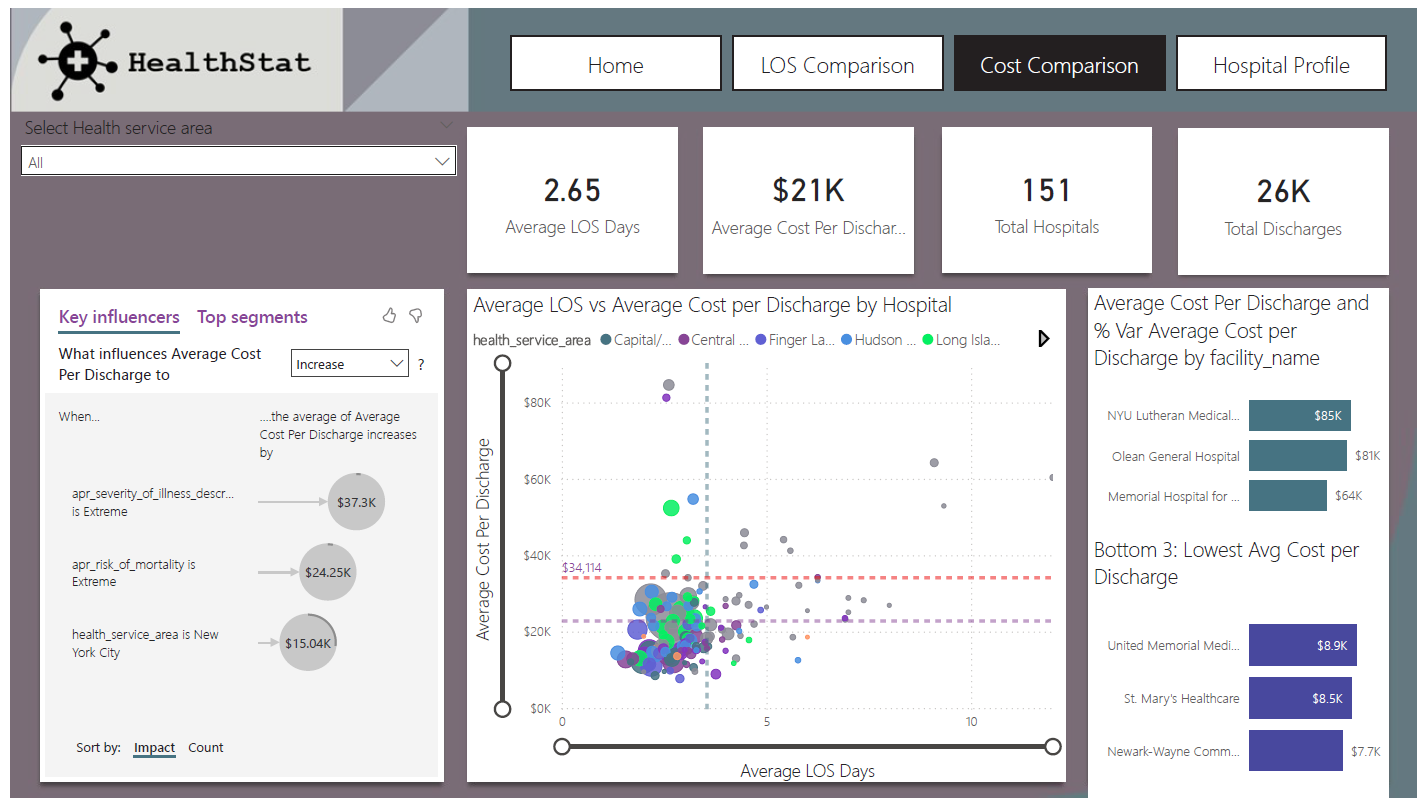

What the dashboard file says about the page in this screenshot:
{"tool":"powerbi","page":{"name":"Cost Comparison","canvas":[1280,720],"ordinal":2},"visuals":[{"type":"scatterChart","title":"Average LOS vs Average Cost per Discharge by Hospital","fields":{"X":["_Measures.Average LOS Days"],"Y":["_Measures.Average Cost Per Discharge"],"Category":["hospital_inpatient_discharges_totalhipreplacement.facility_name"],"Size":["_Measures.Total Discharges"],"Series":["hospital_inpatient_discharges_totalhipreplacement.health_service_area"]},"box":[416.4,255.7,543.6,448.5],"z":0},{"type":"slicer","fields":{"Values":["hospital_inpatient_discharges_totalhipreplacement.health_service_area"]},"box":[0,92.4,416.4,163.3],"z":1000},{"type":"keyDriversVisual","fields":{"ExplainBy":["hospital_inpatient_discharges_totalhipreplacement.apr_risk_of_mortality","hospital_inpatient_discharges_totalhipreplacement.apr_severity_of_illness_description","hospital_inpatient_discharges_totalhipreplacement.ccs_diagnosis_description","hospital_inpatient_discharges_totalhipreplacement.patient_disposition","hospital_inpatient_discharges_totalhipreplacement.gender","hospital_inpatient_discharges_totalhipreplacement.Age Bins","surgical_program_volume_summary.Surgical Program Size","hospital_inpatient_discharges_totalhipreplacement.health_service_area"],"Target":["_Measures.Average Cost Per Discharge"]},"box":[26.8,255.7,366.9,448.5],"z":2000},{"type":"clusteredBarChart","fields":{"Y":["_Measures.Average Cost Per Discharge"],"Category":["hospital_inpatient_discharges_totalhipreplacement.facility_name"]},"box":[981.1,255,272.9,224.2],"z":3000},{"type":"clusteredBarChart","title":"Bottom 3: Lowest Avg Cost per Discharge","fields":{"Y":["_Measures.Average Cost Per Discharge"],"Category":["hospital_inpatient_discharges_totalhipreplacement.facility_name"]},"box":[981.1,479.2,272.9,240.4],"z":4000},{"type":"card","fields":{"Values":["_Measures.Average Cost Per Discharge"]},"box":[630.6,108.5,191.5,133],"z":5000},{"type":"card","fields":{"Values":["_Measures.Average LOS Days"]},"box":[416,108,191.4,132.5],"z":6000},{"type":"card","fields":{"Values":["_Measures.Total Hospitals"]},"box":[847.9,108,191.4,132.5],"z":7000},{"type":"card","fields":{"Values":["_Measures.Total Discharges"]},"box":[1062.6,109.2,191.4,132.5],"z":8000},{"type":"pageNavigator","box":[455.2,25.4,799.3,49.5],"z":9000}]}

Visuals, with their boxes in screenshot pixels (x1, y1, x2, y2), scaled from the page's 1280x720 canvas onto the 1426x812 screenshot:
"Average LOS vs Average Cost per Discharge by Hospital" scatterChart: locate(464, 288, 1070, 794)
slicer - hospital_inpatient_discharges_totalhipreplacement.health_service_area: locate(0, 104, 464, 288)
keyDriversVisual - hospital_inpatient_discharges_totalhipreplacement.apr_risk_of_mortality x hospital_inpatient_discharges_totalhipreplacement.apr_severity_of_illness_description: locate(30, 288, 439, 794)
clusteredBarChart - _Measures.Average Cost Per Discharge x hospital_inpatient_discharges_totalhipreplacement.facility_name: locate(1093, 288, 1397, 540)
"Bottom 3: Lowest Avg Cost per Discharge" clusteredBarChart: locate(1093, 540, 1397, 811)
card - _Measures.Average Cost Per Discharge: locate(703, 122, 916, 272)
card - _Measures.Average LOS Days: locate(463, 122, 677, 271)
card - _Measures.Total Hospitals: locate(945, 122, 1158, 271)
card - _Measures.Total Discharges: locate(1184, 123, 1397, 273)
pageNavigator: locate(507, 29, 1398, 84)
